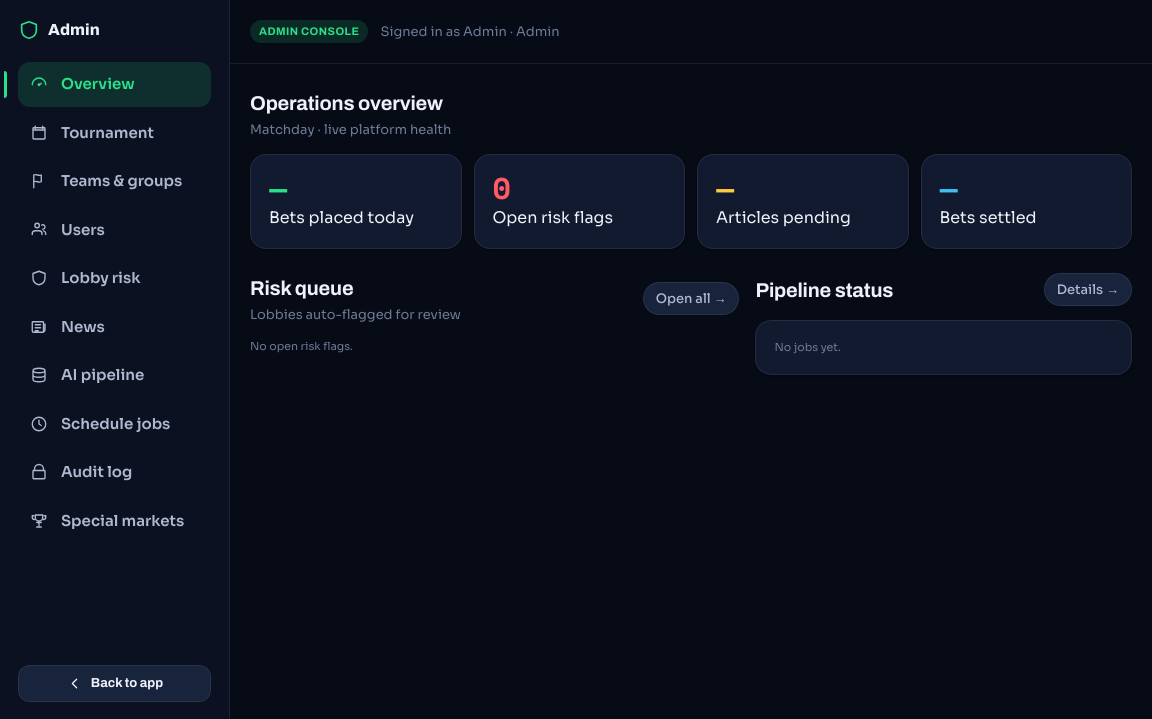
Test: Admin › clicking a match row opens the real match detail page
What coordinates should you click on to do the following:
click the button "Tournament"
I would click on:
 (114, 133)
Its box is [18,110,211,155].
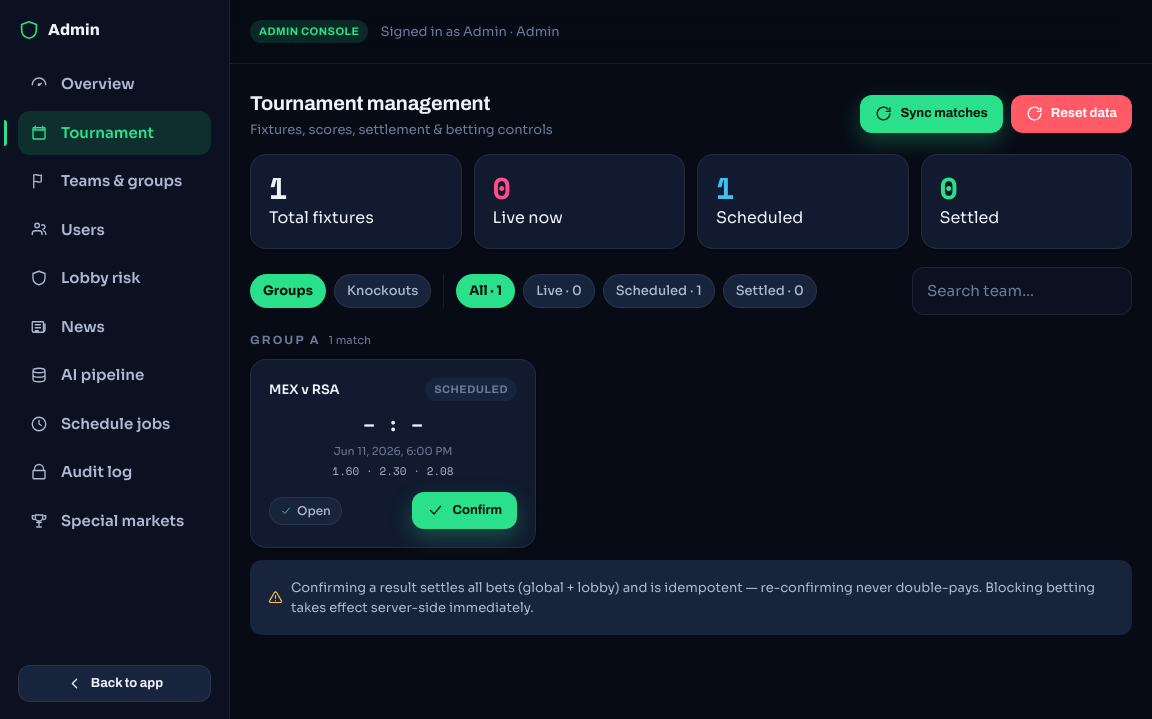
What coordinates should you click on to do the following:
click the text "MEX v RSA"
I would click on:
 (304, 390)
Its box is [269,380,340,399].
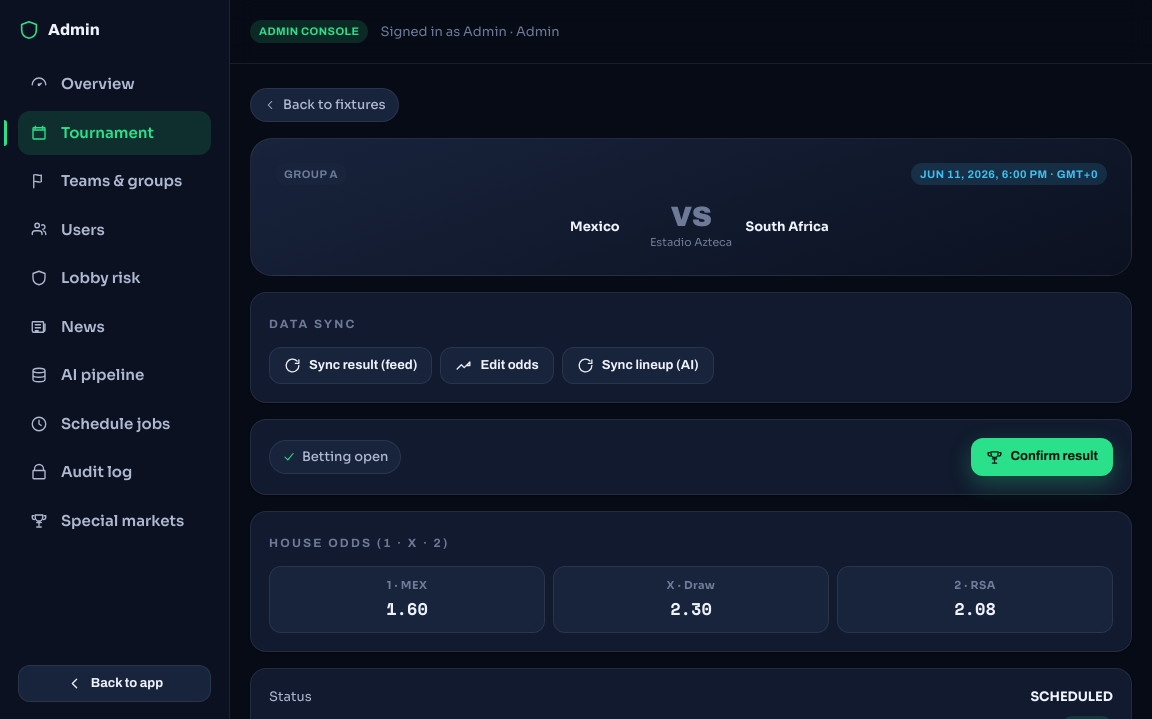
Now the button "Back to fixtures" is shown, box [250,88,399,122]
Now the text "Estadio Azteca" is shown, box [650,234,732,251]
Now the text "House odds (1 · X · 2)" is shown, box [269,536,449,550]
